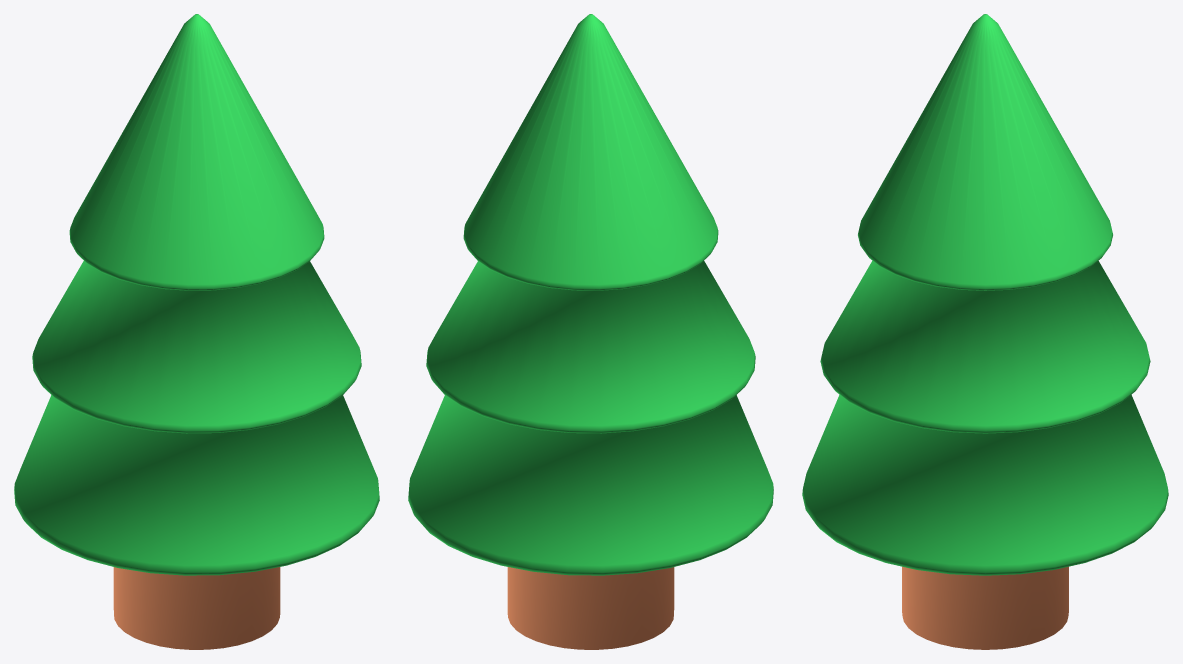
The model's file is PROP_tree 2.fbx.
3 views of the same model, side by side, from view 1: azimuth 30°, elevation 25°; view 2: azimuth 150°, elevation 25°; view 3: azimuth 270°, elevation 25° (orthographic).
Visible parts, largest first — view 1: Cone; view 2: Cone; view 3: Cone.
Boxes of the visible parts, box(x1,y1,x2,y2) form: Cone: box(14, 14, 379, 649); Cone: box(408, 14, 773, 649); Cone: box(802, 14, 1168, 649).
Bounding box in the file's own units: 280 × 505 × 280.
